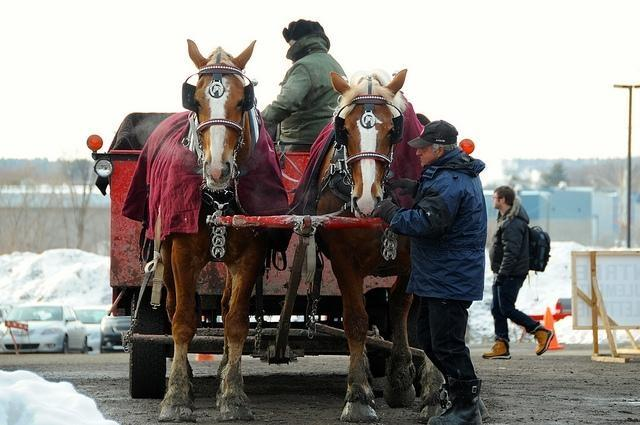car: (0, 304, 90, 353), (69, 307, 115, 350), (99, 314, 131, 354)
